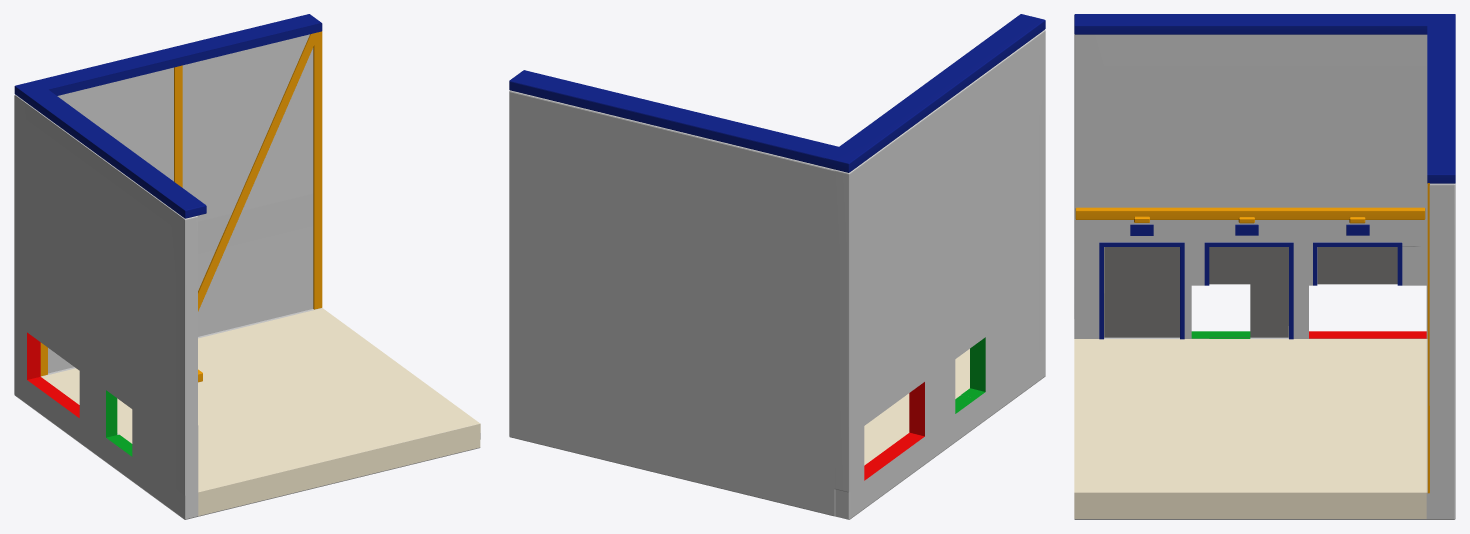
Rendered from cube_sta5 1.fbx.
The picture shows the model from 3 angles, left to right: view 1: azimuth 30°, elevation 25°; view 2: azimuth 150°, elevation 25°; view 3: azimuth 270°, elevation 25°; orthographic projection. The views are drawn at different scales.
Parts seen in each view (by area): view 1: polySurface78; view 2: polySurface78; view 3: polySurface78.
Part boxes in pixels (box(x1,y1,x2,y2)): polySurface78: box(14, 14, 480, 519); polySurface78: box(509, 14, 1045, 519); polySurface78: box(1074, 14, 1455, 519).
Size of the model in its own units: 6.49 by 6.5 by 6.5.
